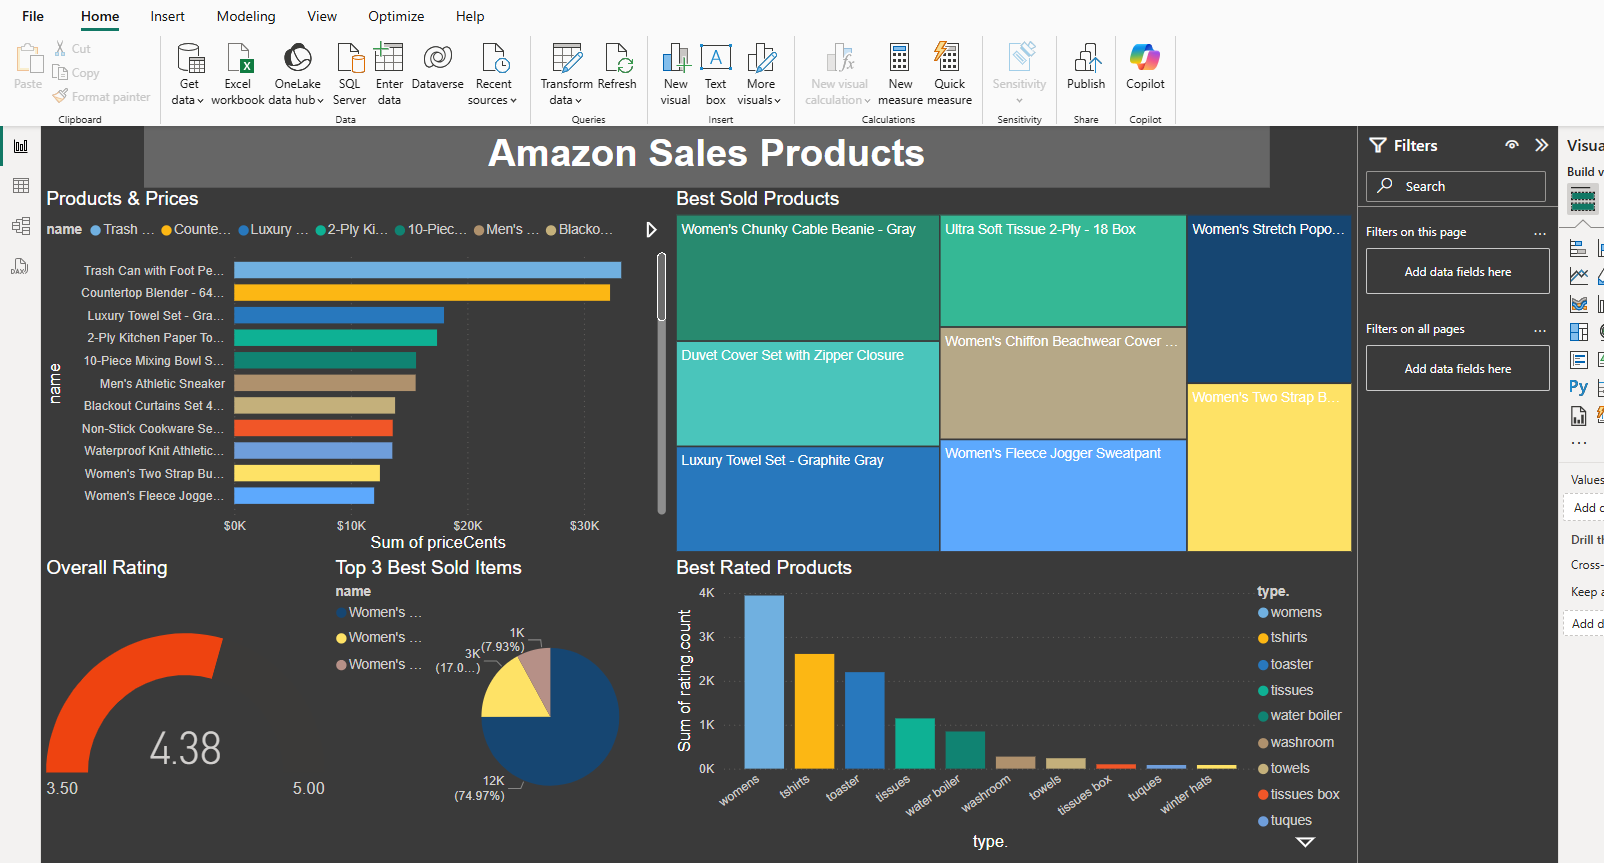

The page's visual inventory and layout, read from the dashboard file:
{"tool":"powerbi","page":{"name":"Page 2","canvas":[1280,720],"ordinal":0},"visuals":[{"type":"barChart","title":"Products & Prices","fields":{"Category":["products.name"],"Y":["Sum(products.priceCents)"],"Series":["products.name"]},"box":[0,60.3,612.8,358.9],"z":0},{"type":"treemap","title":"Best Sold Products","fields":{"Group":["products.name"],"Values":["CountNonNull(products.rating.count)"]},"box":[612.8,60.3,667.2,358.9],"z":1000},{"type":"gauge","title":"Overall Rating","fields":{"Y":["Avg(products.rating.stars)"],"MinValue":["Min(products.rating.stars)"],"MaxValue":["Max(products.rating.stars)"]},"box":[0,419.2,281.1,289.8],"z":2000},{"type":"columnChart","title":"Best Rated Products","fields":{"Category":["products.type."],"Y":["Sum(products.rating.count)"],"Series":["products.type."]},"box":[612.8,419.2,667.2,289.8],"z":3000},{"type":"pieChart","title":"Top 3 Best Sold Items","fields":{"Y":["Sum(products.rating.count)"],"Category":["products.name"]},"box":[281.1,419.2,331.7,289.8],"z":4000},{"type":"textbox","box":[100.2,0,1095.2,60.3],"z":5000}]}

Visuals, with their boxes on the page's 1280x720 design canvas (x1, y1, x2, y2). These are canvas units, not pixel positions in the 1604x863 screenshot, which may show the page scaled, cropped or inside an application window:
"Products & Prices" barChart: locate(0, 60, 613, 419)
"Best Sold Products" treemap: locate(613, 60, 1280, 419)
"Overall Rating" gauge: locate(0, 419, 281, 709)
"Best Rated Products" columnChart: locate(613, 419, 1280, 709)
"Top 3 Best Sold Items" pieChart: locate(281, 419, 613, 709)
textbox: locate(100, 0, 1195, 60)
